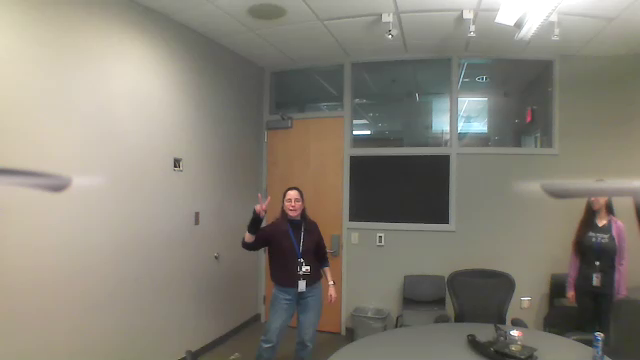peace: (252, 191, 276, 221)
